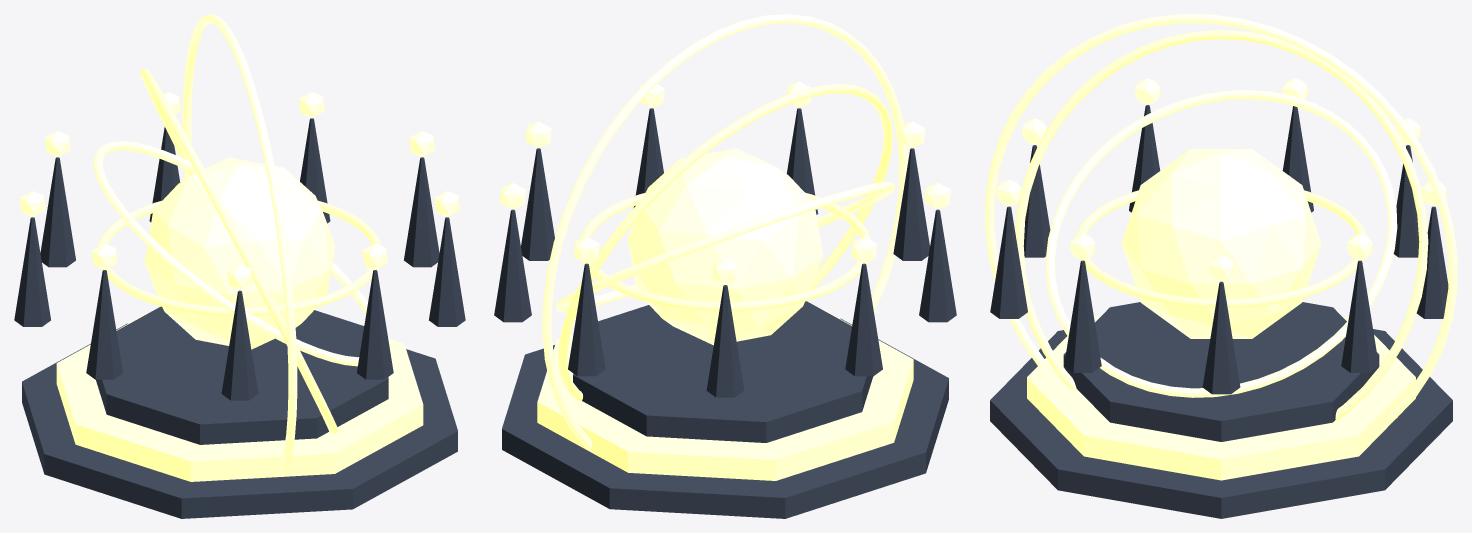
File: gpu-blender-v30.glb
3 views of the same model, side by side, from view 1: azimuth 30°, elevation 25°; view 2: azimuth 150°, elevation 25°; view 3: azimuth 270°, elevation 25° (orthographic). The views are drawn at different scales.
Parts seen in each view (by area): view 1: Cylinder.002, Cylinder, SovereignCore_neal-bliki, Cylinder.001, Torus.003, Torus.001, Torus.002, Torus, Cone.006, Cone, Cone.003, Cone.005 (+13 smaller); view 2: Cylinder.002, SovereignCore_neal-bliki, Cylinder, Cylinder.001, Torus.003, Torus.002, Torus.001, Torus, Cone.002, Cone.004, Cone.001, Cone.005 (+12 smaller); view 3: SovereignCore_neal-bliki, Cylinder.002, Cylinder, Cylinder.001, Torus.003, Torus.002, Torus.001, Torus, Cone, Cone.007, Cone.001, Cone.008 (+9 smaller).
Part boxes in pixels (<box>): Cylinder.002: <box>96,306,388,444</box>; Cylinder: <box>22,323,457,518</box>; SovereignCore_neal-bliki: <box>144,157,335,349</box>; Cylinder.001: <box>56,314,423,481</box>; Torus.003: <box>182,14,297,474</box>; Torus.001: <box>93,141,367,366</box>; Torus.002: <box>140,68,338,433</box>; Torus: <box>98,200,381,316</box>; Cone.006: <box>221,290,258,400</box>; Cone: <box>404,157,439,267</box>; Cone.003: <box>40,157,75,267</box>; Cone.005: <box>86,270,122,379</box>; Cylinder.002: <box>573,301,873,442</box>; SovereignCore_neal-bliki: <box>627,148,823,345</box>; Cylinder: <box>502,318,948,518</box>; Cylinder.001: <box>537,309,913,480</box>; Torus.003: <box>542,14,908,450</box>; Torus.002: <box>558,84,892,401</box>; Torus.001: <box>556,181,894,312</box>; Torus: <box>580,192,870,311</box>; Cone.002: <box>568,263,605,376</box>; Cone.004: <box>845,263,882,376</box>; Cone.001: <box>494,209,531,322</box>; Cone.005: <box>919,209,956,322</box>; SovereignCore_neal-bliki: <box>1121,149,1321,338</box>; Cylinder.002: <box>1063,302,1379,441</box>; Cylinder: <box>990,329,1452,518</box>; Cylinder.001: <box>1027,316,1415,480</box>; Torus.003: <box>985,14,1457,422</box>; Torus.002: <box>1015,30,1428,421</box>; Torus.001: <box>1045,90,1397,397</box>; Torus: <box>1076,190,1366,308</box>; Cone: <box>1202,281,1240,394</box>; Cone.007: <box>990,206,1027,318</box>; Cone.001: <box>1341,260,1378,372</box>; Cone.008: <box>1064,260,1101,372</box>.
Bounding box in the file's own units: 4.41 × 4.7 × 4.49.
